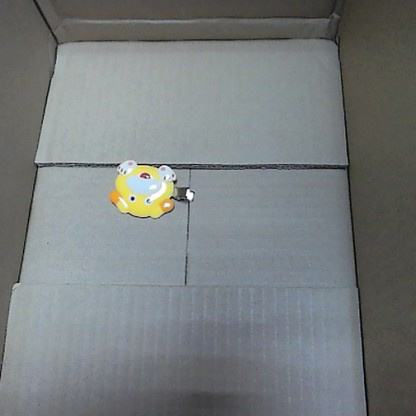dogclip: (108, 157, 195, 219)
